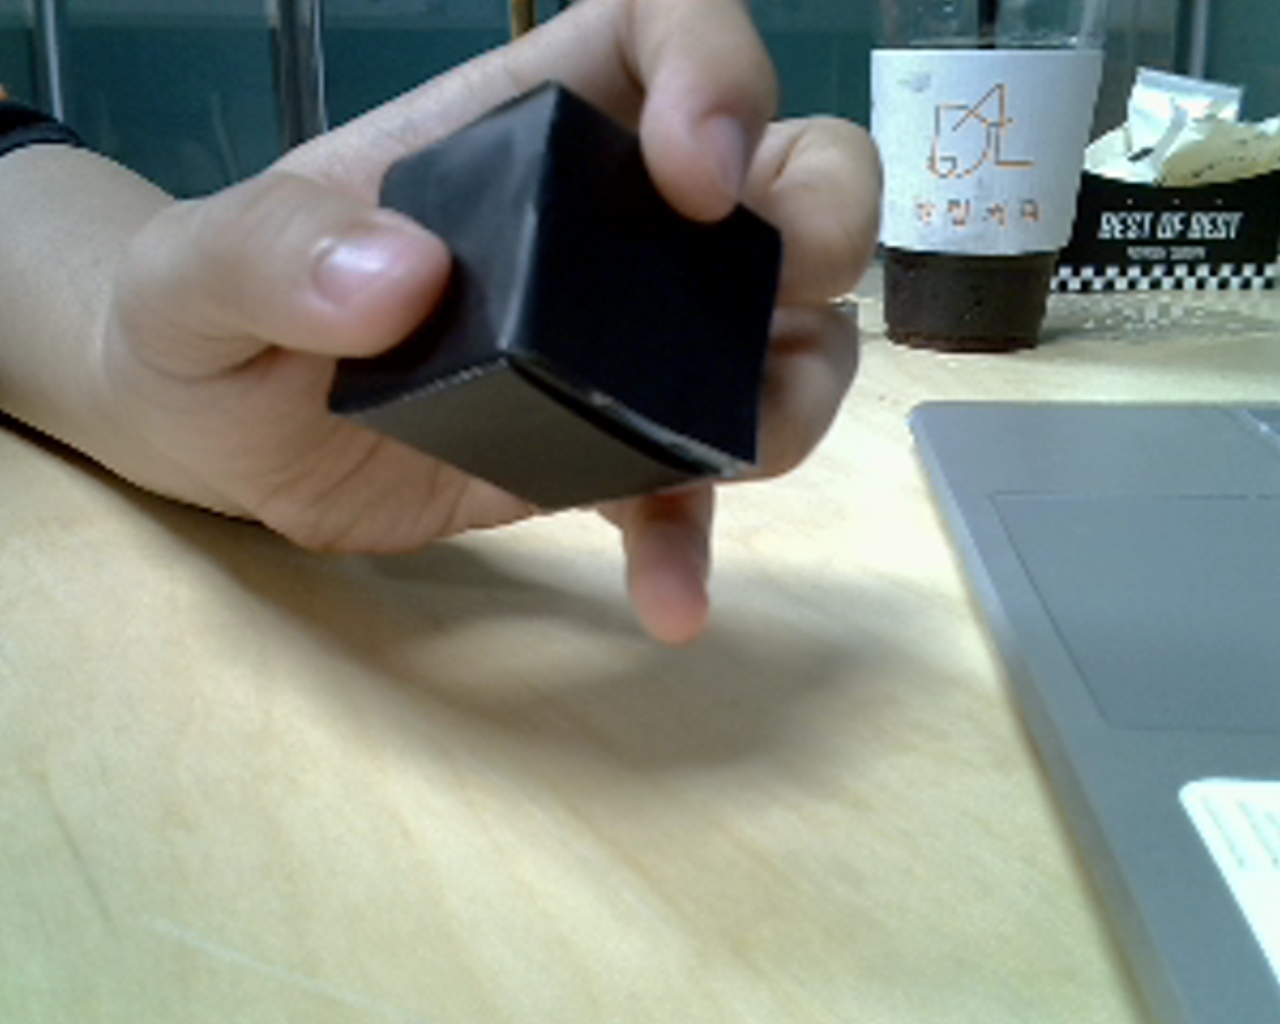blackbox: (315, 72, 818, 539)
